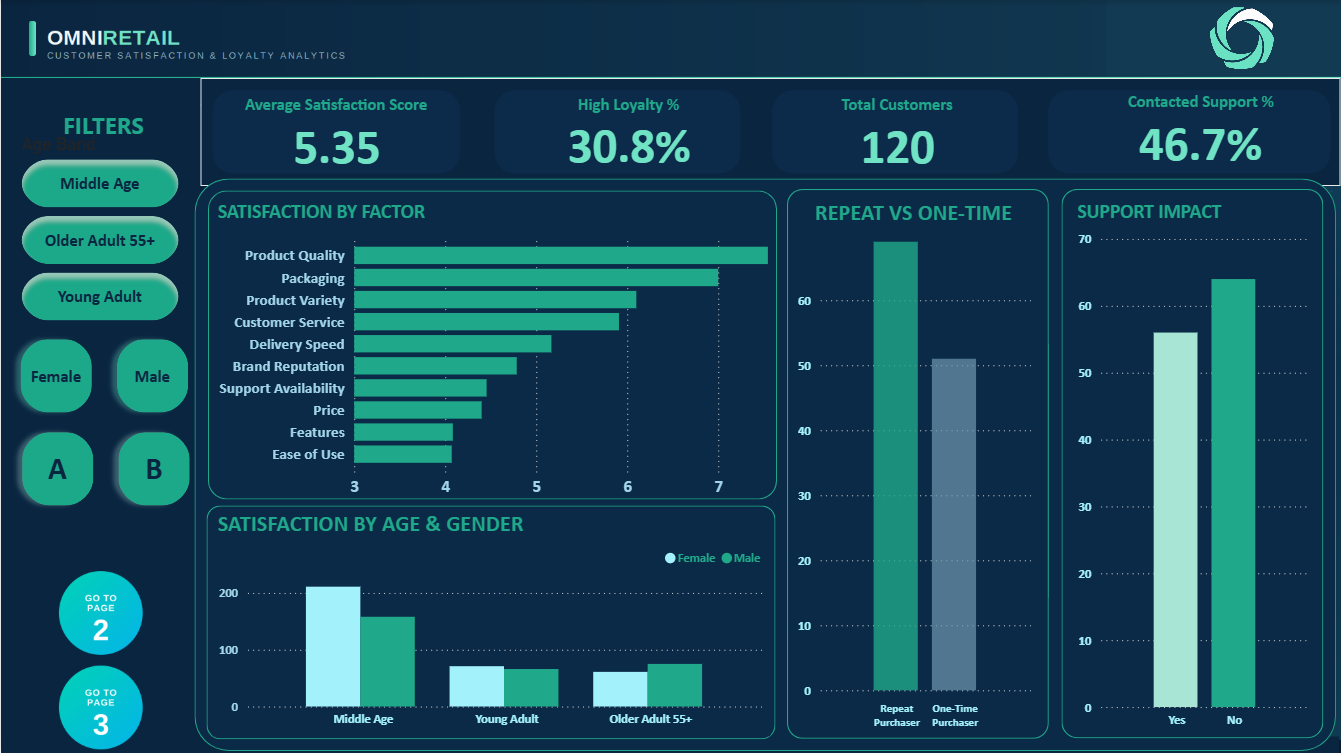

Layout of this report page (visuals, bound fields, positions):
{"tool":"powerbi","page":{"name":"Dashboard 1","canvas":[1280,720],"ordinal":1},"visuals":[{"type":"shape","box":[191,75,1088,103],"z":0},{"type":"shape","box":[202,85.9,236.7,80],"z":1000},{"type":"shape","box":[0,75,190,645],"z":2000},{"type":"shape","box":[1000,85.6,270,79.9],"z":3000},{"type":"shape","box":[735.6,85.6,235,79.9],"z":4000},{"type":"shape","box":[470.6,86.6,235,79.9],"z":5000},{"type":"card","fields":{"Values":["Table1.% High Loyalty"]},"box":[530,102,139,67],"z":6000},{"type":"shape","box":[189.7,703.1,1088.6,16.9],"z":7000},{"type":"card","fields":{"Values":["Table1.Average Satifaction Score"]},"box":[266,109,108,55],"z":8000},{"type":"card","fields":{"Values":["Table1.Total Customers"]},"box":[798,107,116,57],"z":9000},{"type":"card","fields":{"Values":["Table1.Contacted Support"]},"box":[1075,103.3,141.7,60],"z":10000},{"type":"shape","box":[1055,0,225,71.7],"z":11000},{"type":"textbox","box":[222,85,196,32],"z":12000},{"type":"textbox","box":[516,85,167,37],"z":13000},{"type":"textbox","box":[791,85,130,31],"z":14000},{"type":"textbox","box":[1066,82,160,35],"z":15000},{"type":"advancedSlicerVisual","fields":{"Values":["Table1.Age Band"]},"box":[14.3,127.1,160,185.7],"z":16000},{"type":"advancedSlicerVisual","fields":{"Values":["Table1.Gender"]},"box":[1.4,307.1,194.3,104.3],"z":17000},{"type":"advancedSlicerVisual","fields":{"Values":["Table1.Group"]},"box":[2.7,395.5,194.5,104],"z":18000},{"type":"textbox","box":[53.3,98.3,90,45],"z":19000},{"type":"shape","box":[185,170,1090,546.7],"z":20000},{"type":"shape","box":[198.3,181.7,543.3,295],"z":21000},{"type":"barChart","title":"SATISFACTION BY FACTOR","fields":{"Y":["Avg(Table1.Satisfaction_Score)"],"Category":["Table1.Satisfaction_Factor"]},"box":[201.4,190,540,292.9],"z":22000},{"type":"shape","box":[750,181,250,525],"z":23000},{"type":"shape","box":[196.7,483.3,543.3,223.3],"z":24000},{"type":"clusteredColumnChart","title":"SATISFACTION BY AGE & GENDER","fields":{"Category":["Table1.Age Band"],"Series":["Table1.Gender"],"Y":["Sum(Table1.Satisfaction_Score)"]},"box":[202,486.7,532.9,216.3],"z":25000},{"type":"shape","box":[1012.2,181.1,250,524.4],"z":26000},{"type":"clusteredColumnChart","title":"REPEAT VS ONE-TIME","fields":{"Y":["CountNonNull(Table1.Satisfaction_Score)"],"Category":["Table1.Purchase_History"]},"box":[755,190,233.3,513.3],"z":27000},{"type":"columnChart","title":"SUPPORT IMPACT","fields":{"Category":["Table1.Support_Contacted"],"Y":["CountNonNull(Table1.Satisfaction_Score)"]},"box":[1023.3,190,231.7,513.3],"z":28000},{"type":"image","box":[0,540,190,90],"z":29000},{"type":"image","box":[0,630,190,90],"z":30000},{"type":"image","box":[1136.7,1.7,96.7,71.7],"z":31000}]}

Visuals, with their boxes in screenshot pixels (x1, y1, x2, y2), scaled from the page's 1280x720 canvas onto the 1341x753 screenshot:
shape: bbox(200, 78, 1340, 186)
shape: bbox(212, 90, 460, 174)
shape: bbox(0, 78, 199, 752)
shape: bbox(1048, 90, 1331, 173)
shape: bbox(771, 90, 1017, 173)
shape: bbox(493, 91, 739, 174)
card - Table1.% High Loyalty: bbox(555, 107, 701, 177)
shape: bbox(199, 735, 1339, 752)
card - Table1.Average Satifaction Score: bbox(279, 114, 392, 172)
card - Table1.Total Customers: bbox(836, 112, 958, 172)
card - Table1.Contacted Support: bbox(1126, 108, 1275, 171)
shape: bbox(1105, 0, 1340, 75)
textbox: bbox(233, 89, 438, 122)
textbox: bbox(541, 89, 716, 128)
textbox: bbox(829, 89, 965, 121)
textbox: bbox(1117, 86, 1284, 122)
advancedSlicerVisual - Table1.Age Band: bbox(15, 133, 183, 327)
advancedSlicerVisual - Table1.Gender: bbox(1, 321, 205, 430)
advancedSlicerVisual - Table1.Group: bbox(3, 414, 207, 522)
textbox: bbox(56, 103, 150, 150)
shape: bbox(194, 178, 1336, 750)
shape: bbox(208, 190, 777, 499)
"SATISFACTION BY FACTOR" barChart: bbox(211, 199, 777, 505)
shape: bbox(786, 189, 1048, 738)
shape: bbox(206, 505, 775, 739)
"SATISFACTION BY AGE & GENDER" clusteredColumnChart: bbox(212, 509, 770, 735)
shape: bbox(1060, 189, 1322, 738)
"REPEAT VS ONE-TIME" clusteredColumnChart: bbox(791, 199, 1035, 736)
"SUPPORT IMPACT" columnChart: bbox(1072, 199, 1315, 736)
image: bbox(0, 565, 199, 659)
image: bbox(0, 659, 199, 752)
image: bbox(1191, 2, 1292, 77)
